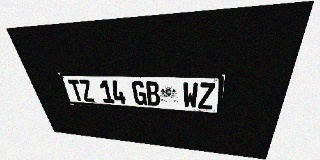1: (98, 80, 115, 103)
4: (110, 80, 126, 104)
B: (145, 81, 161, 106)
G: (131, 81, 147, 105)
T: (67, 79, 85, 101)
W: (183, 82, 198, 109)
Z: (198, 82, 215, 110), (78, 80, 95, 102)
